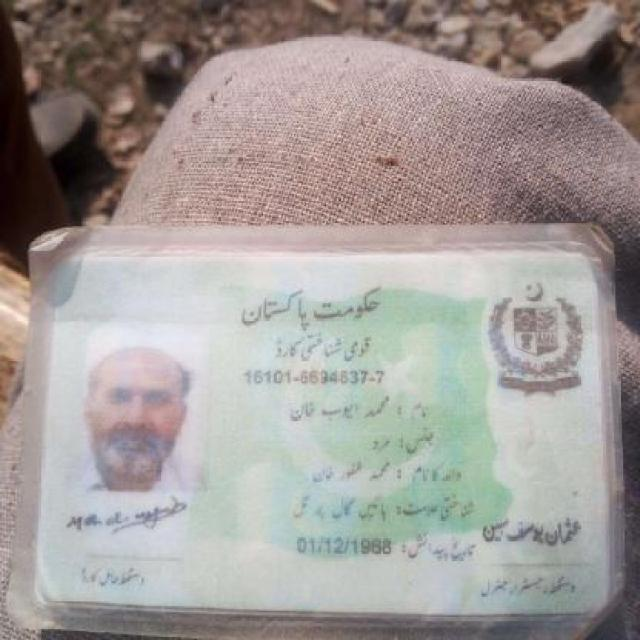Front: (29, 249, 616, 614)
